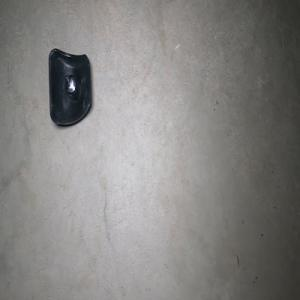LuggagePart: (47, 46, 92, 127)
